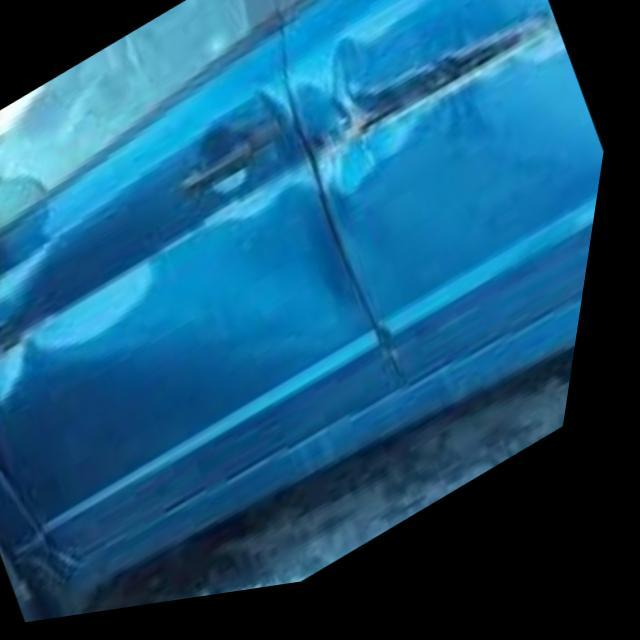dent: (0, 0, 574, 413)
